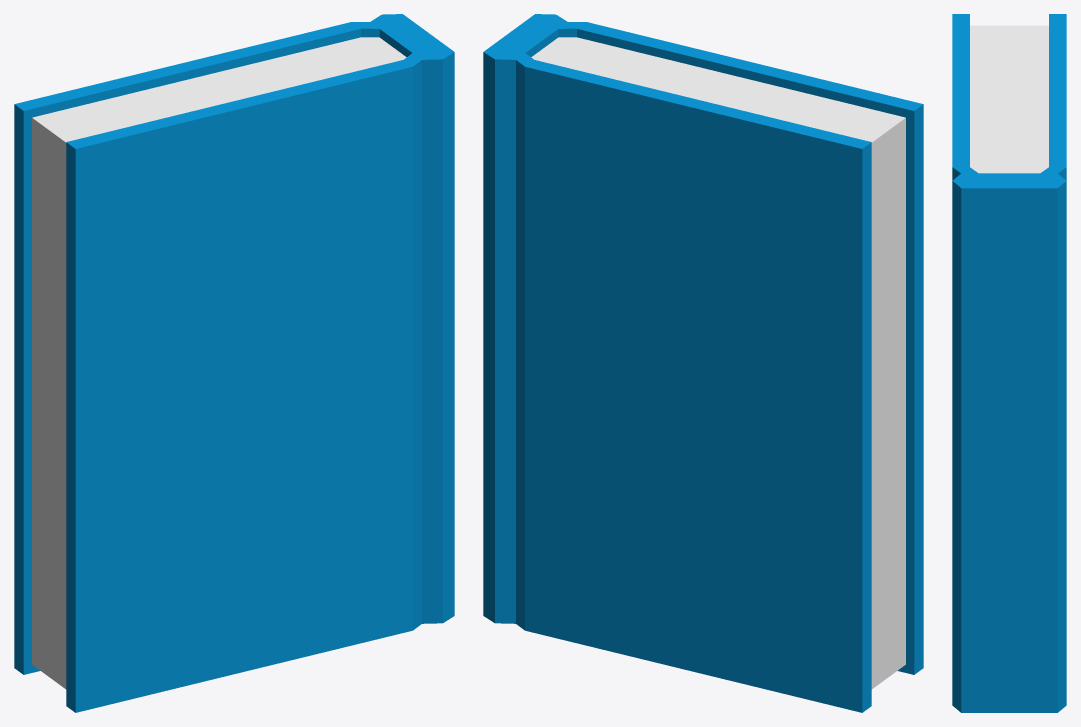
Rendered from Book (Blue).glb.
3 views of the same model, side by side, from view 1: azimuth 30°, elevation 25°; view 2: azimuth 150°, elevation 25°; view 3: azimuth 270°, elevation 25° (orthographic). The views are drawn at different scales.
Parts seen in each view (by area): view 1: Node; view 2: Node; view 3: Node.
Part boxes in pixels (x1,y1,x2,y2): Node: [14, 14, 454, 712]; Node: [483, 14, 923, 712]; Node: [952, 14, 1066, 712].
Bounding box in the file's own units: 0.47 × 0.66 × 0.13.
